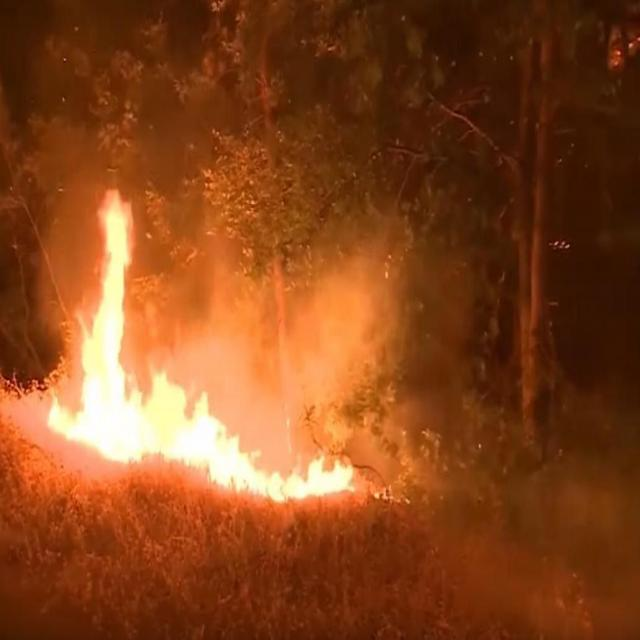fire: (28, 175, 390, 505)
